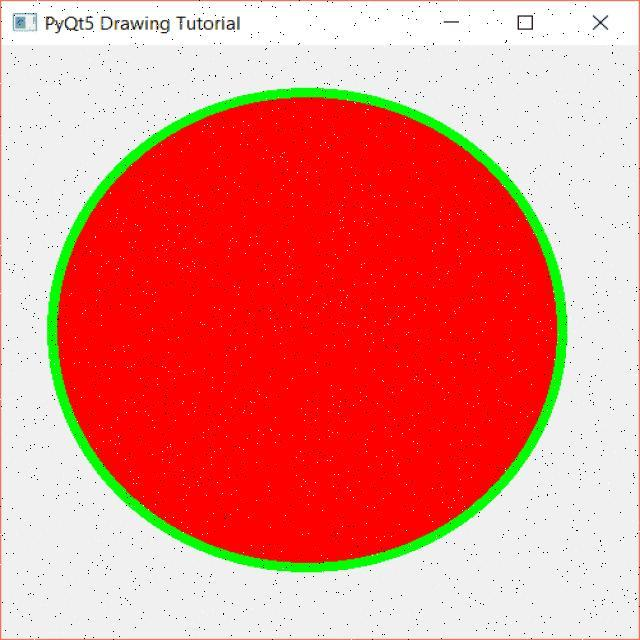Circle: (48, 89, 566, 571)
